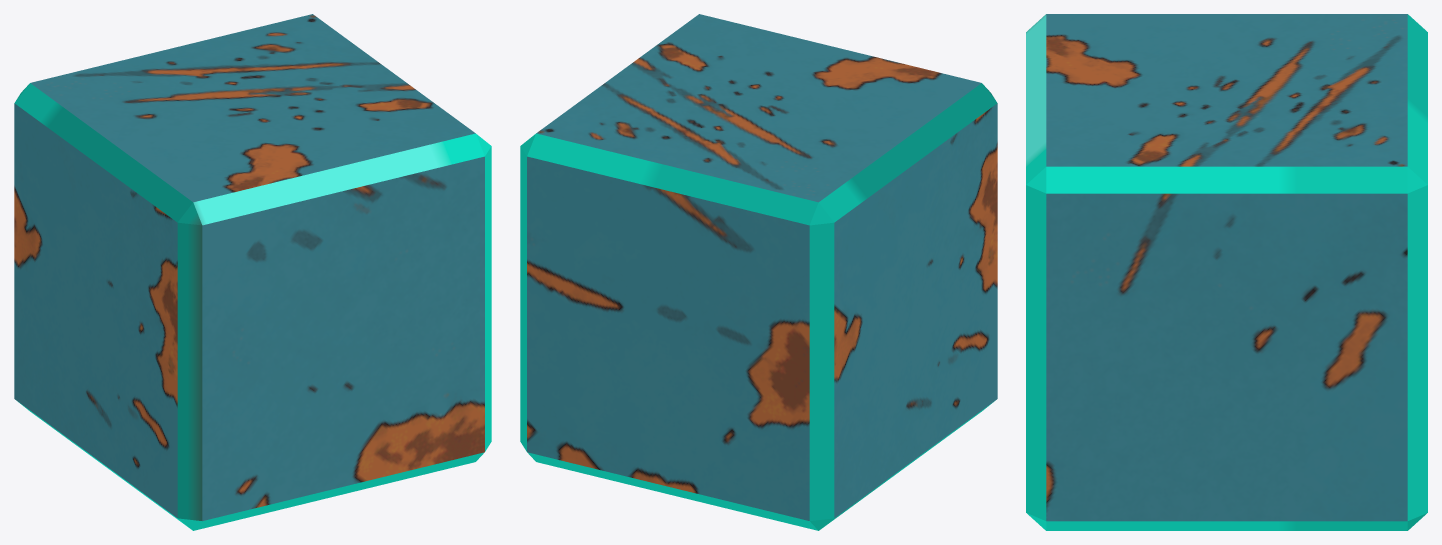
Rendered from CUBE_OPAQUE.glb.
3 views of the same model, side by side, from view 1: azimuth 30°, elevation 25°; view 2: azimuth 150°, elevation 25°; view 3: azimuth 270°, elevation 25° (orthographic). The views are drawn at different scales.
Parts seen in each view (by area): view 1: Cube.026; view 2: Cube.026; view 3: Cube.026.
Part boxes in pixels (x1,y1,x2,y2): Cube.026: (14,14,491,530); Cube.026: (520,14,997,530); Cube.026: (1026,14,1427,530).
Bounding box in the file's own units: 2 × 2 × 2.
Materials: 2 (2 with a texture image).
